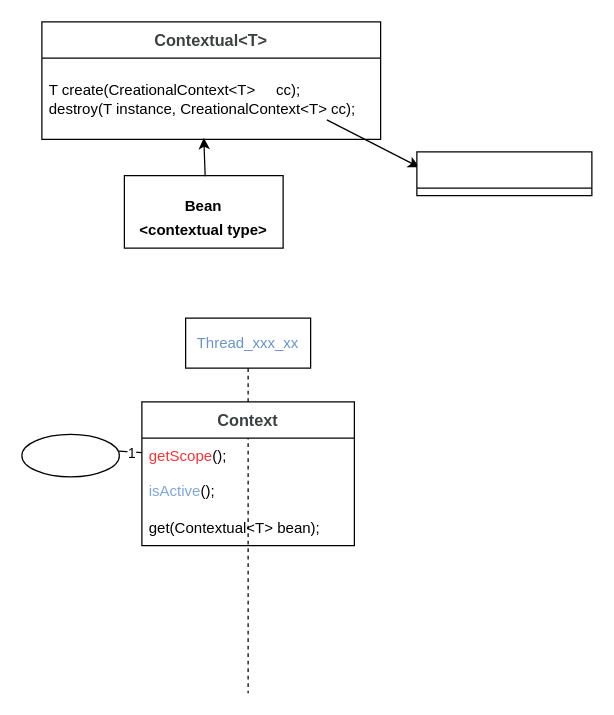
Image size: 614x715. Some labels were removed from this diagram. The shapes that lost their labels are listed below. From the top down, each one's centre as x and y in pixels, then its label:
point (504, 173): CreationalContext
point (70, 455): XxxxScope
